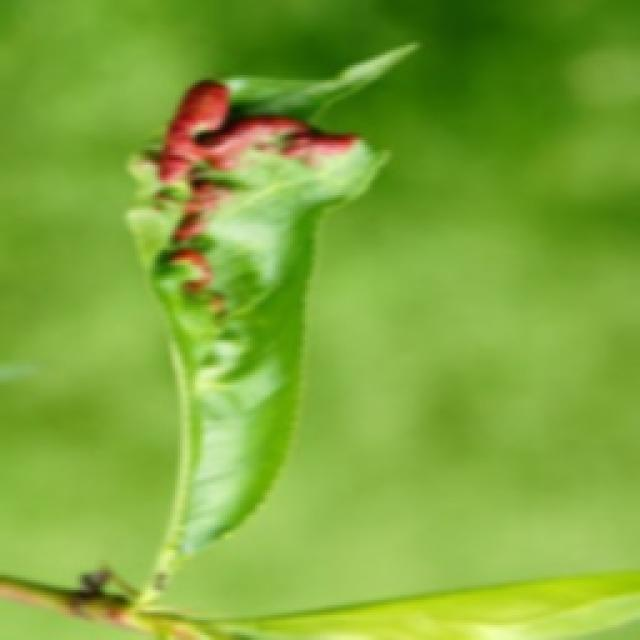peach_leaf_curl: (145, 75, 363, 315)
